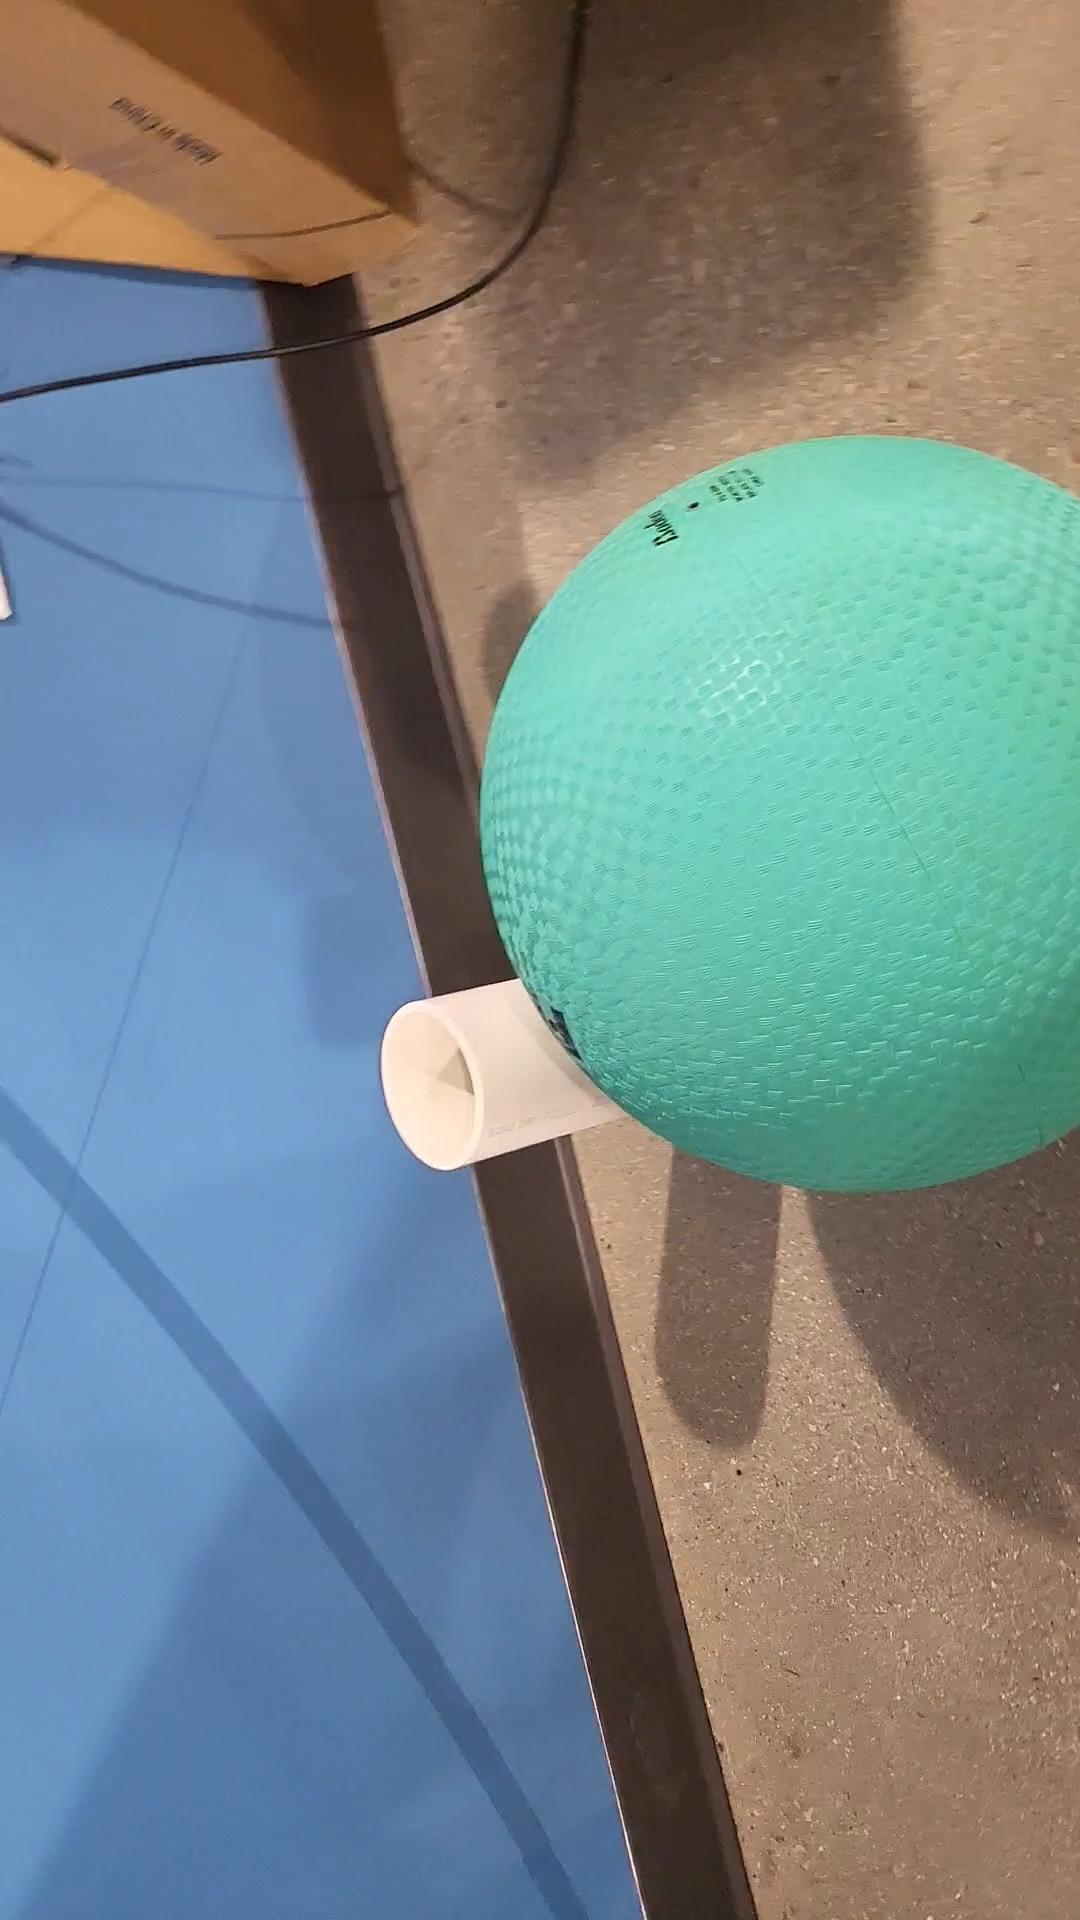algae: (480, 433, 1080, 1197)
coral: (385, 975, 630, 1170)
